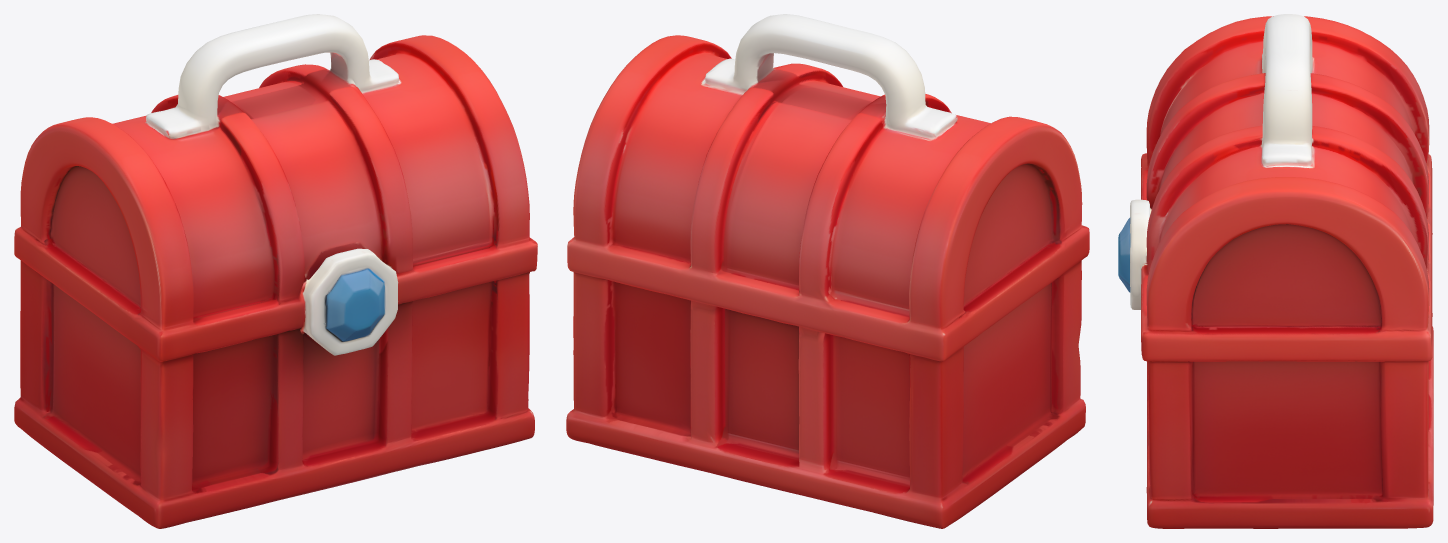
3 renders of one model, left to right at view 1: azimuth 30°, elevation 25°; view 2: azimuth 150°, elevation 25°; view 3: azimuth 270°, elevation 25°, orthographic.
Visible parts, largest first — view 1: model; view 2: model; view 3: model.
Part boxes in pixels (left/top/right/bottom): model: left=14, top=14, right=537, bottom=528; model: left=566, top=14, right=1089, bottom=528; model: left=1118, top=14, right=1433, bottom=528.
Bounding box in the file's own units: 1.73 × 1.77 × 1.26.
Materials: 1 (1 with a texture image).
